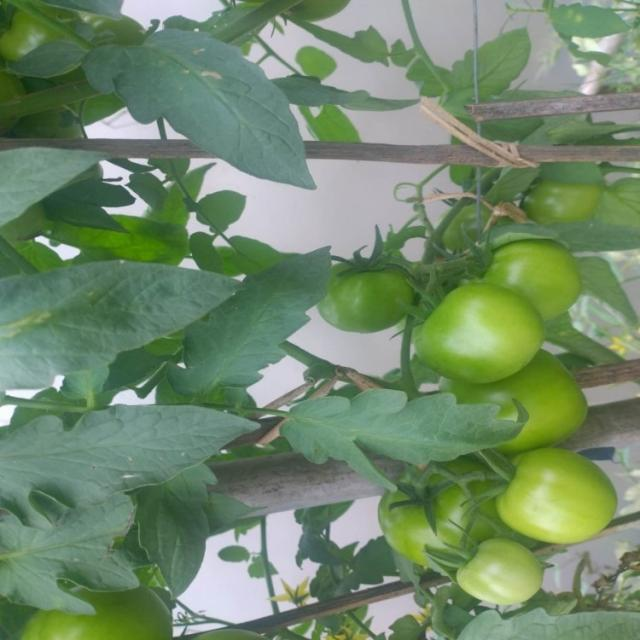tomato: (442, 355, 593, 450), (416, 283, 542, 384), (496, 447, 616, 552), (380, 459, 493, 570), (23, 580, 176, 640), (488, 242, 590, 323), (452, 532, 552, 611), (319, 258, 415, 339), (1, 4, 87, 74), (525, 173, 608, 226)
